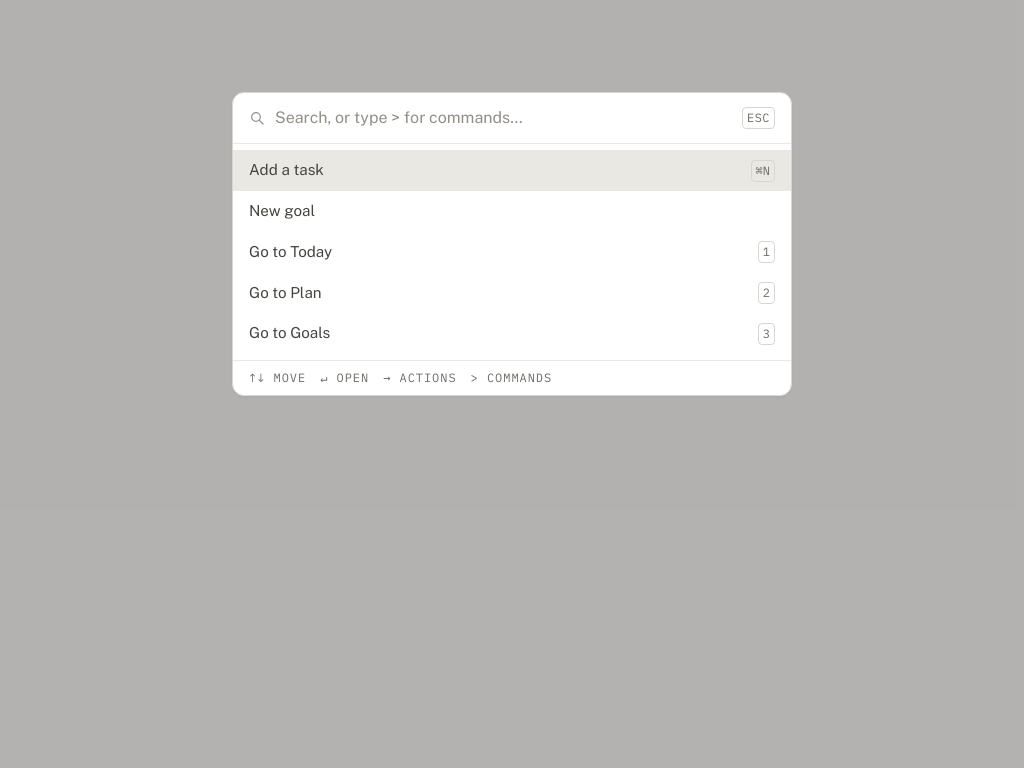
Test: the command palette › puts the object you named above the verbs that share its letters
In the dropdown: (504, 118) [275,106,732,130], type "physics"
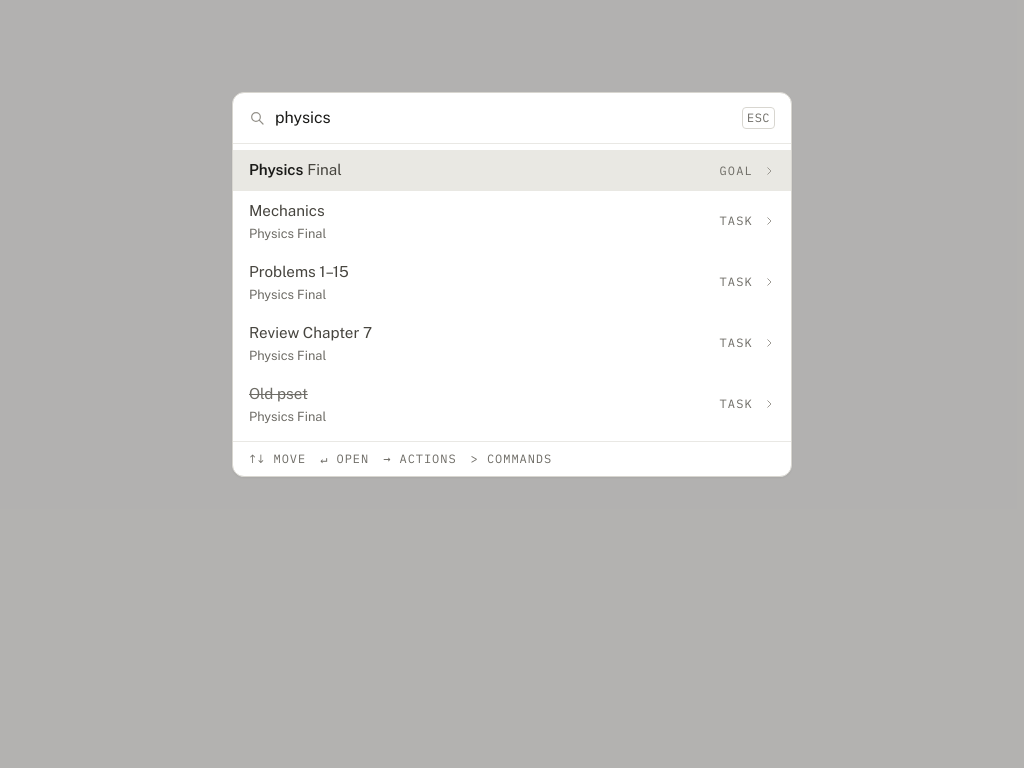
Check: the option "Physics Final GOAL" is shown, box [233,150,791,191]
